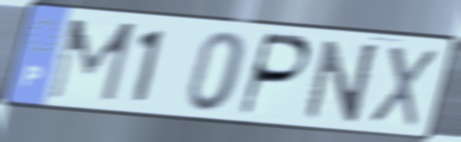0: (184, 28, 249, 115)
1: (131, 27, 171, 104)
M: (44, 17, 139, 106)
N: (301, 37, 382, 124)
P: (236, 30, 315, 120)
X: (366, 43, 439, 130)
